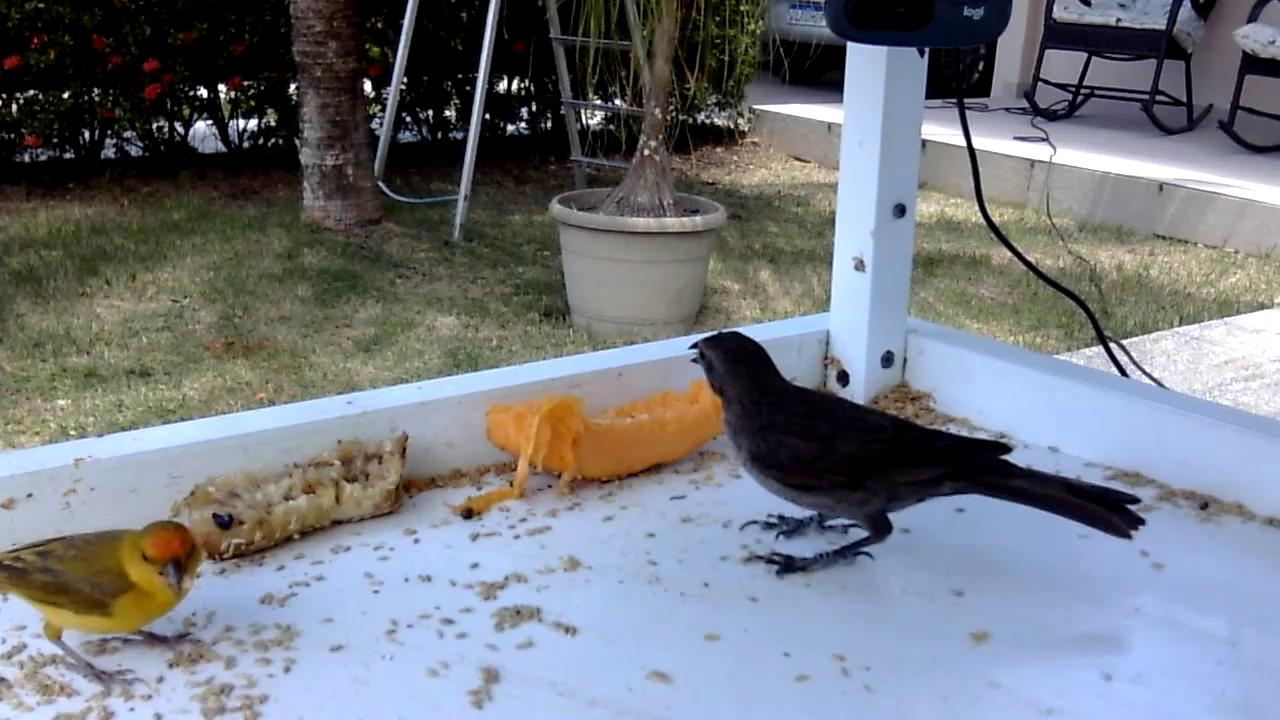canario_do_amazonas: (1, 518, 216, 701)
chupim: (685, 327, 1152, 582)
